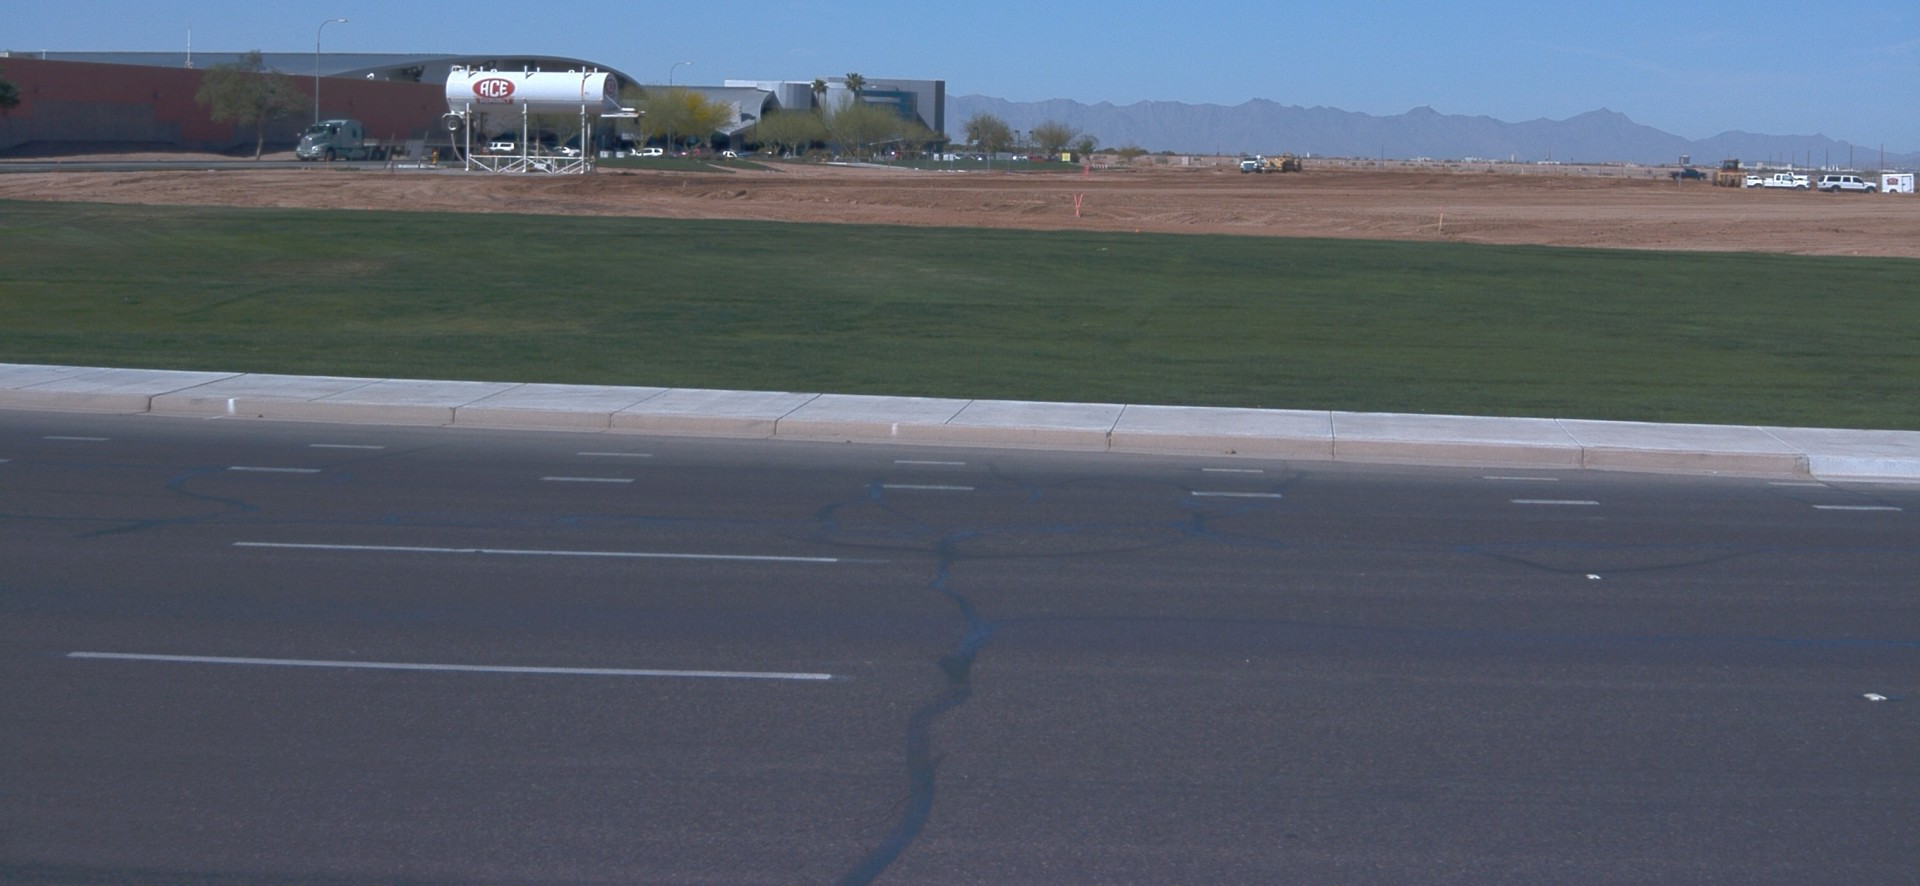TYPE_VEHICLE: (295, 112, 470, 159), (1815, 174, 1878, 195), (1709, 158, 1749, 190), (1745, 173, 1810, 192), (1257, 151, 1304, 172), (1877, 174, 1918, 197), (1668, 167, 1710, 181), (1239, 154, 1262, 174), (483, 140, 515, 153), (633, 147, 662, 158), (528, 144, 556, 155), (1789, 173, 1810, 179), (1744, 173, 1762, 179), (555, 147, 573, 153), (723, 151, 738, 156)
